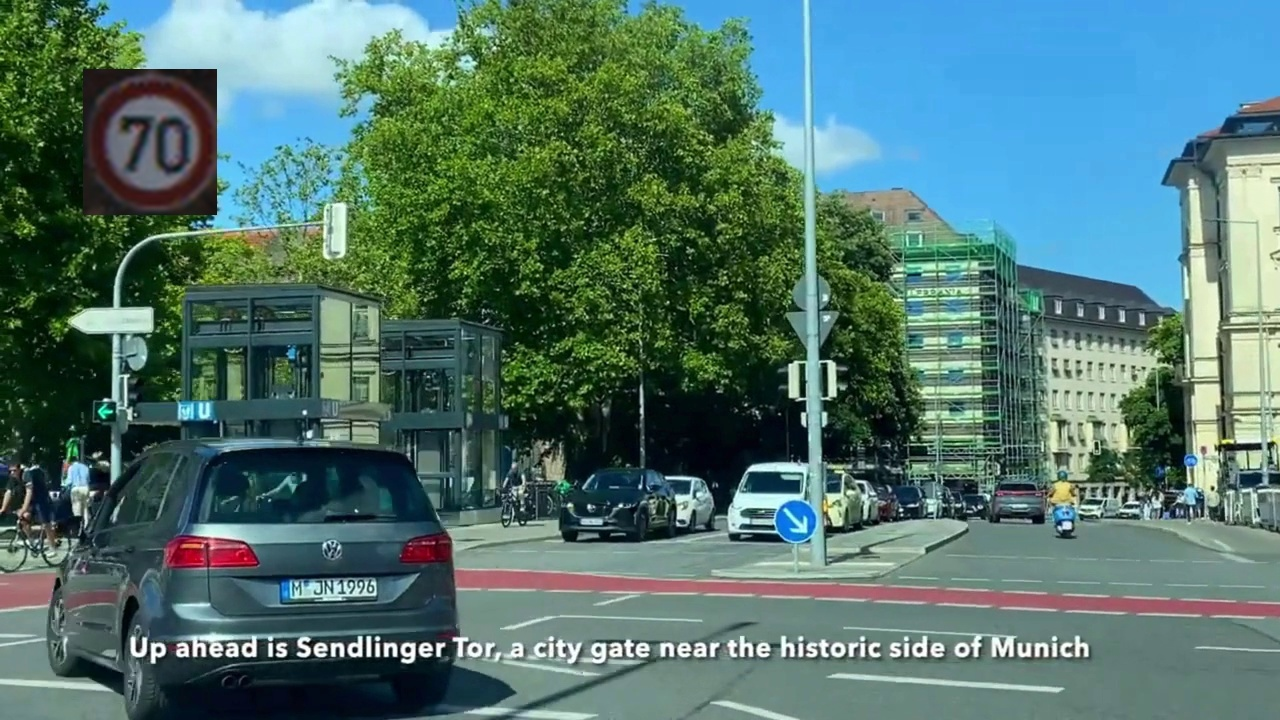Speed 70: (83, 69, 217, 215)
